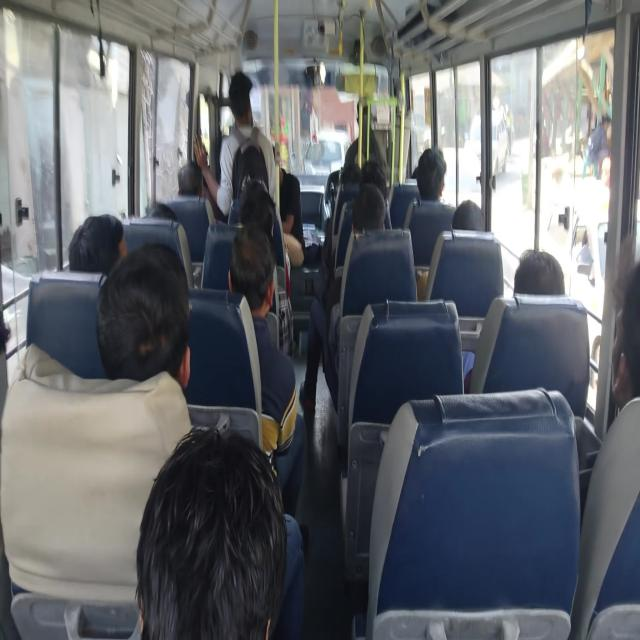person: (134, 425, 289, 636), (95, 244, 191, 389), (423, 182, 493, 378), (490, 249, 570, 403), (406, 152, 460, 266), (229, 224, 276, 310), (68, 214, 125, 278), (168, 163, 212, 231), (278, 161, 304, 262), (513, 249, 565, 297), (238, 177, 276, 240), (351, 182, 386, 235), (414, 148, 446, 202), (452, 199, 486, 232), (228, 71, 254, 114), (360, 160, 386, 196), (177, 161, 203, 197), (339, 156, 362, 192), (147, 204, 178, 222)
